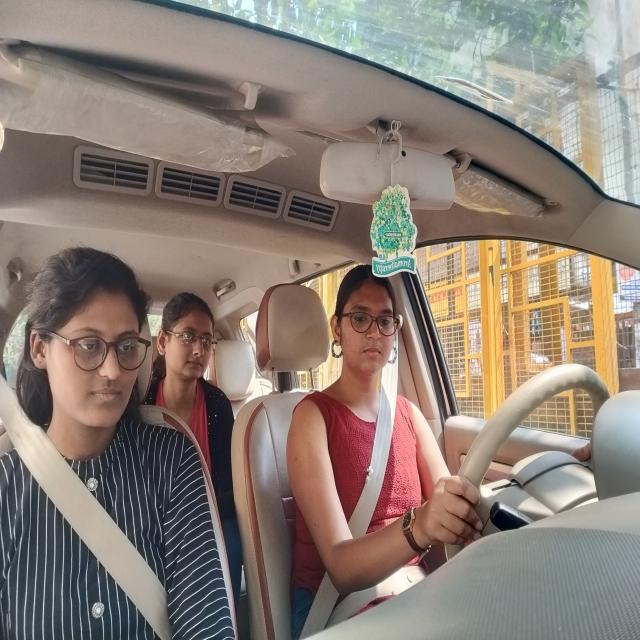person: (28, 246, 150, 440), (331, 268, 404, 397), (157, 284, 216, 402)
